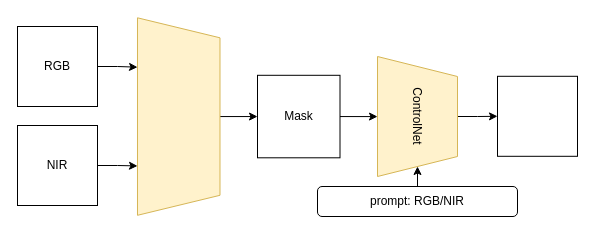
This 595x234 diagram has some shape labels left out. Here are the shapes that lost their labels. From the top down, the centre of each, then its label:
the point at 178,116: Mask predictor
the point at 537,115: RGB/NIR
